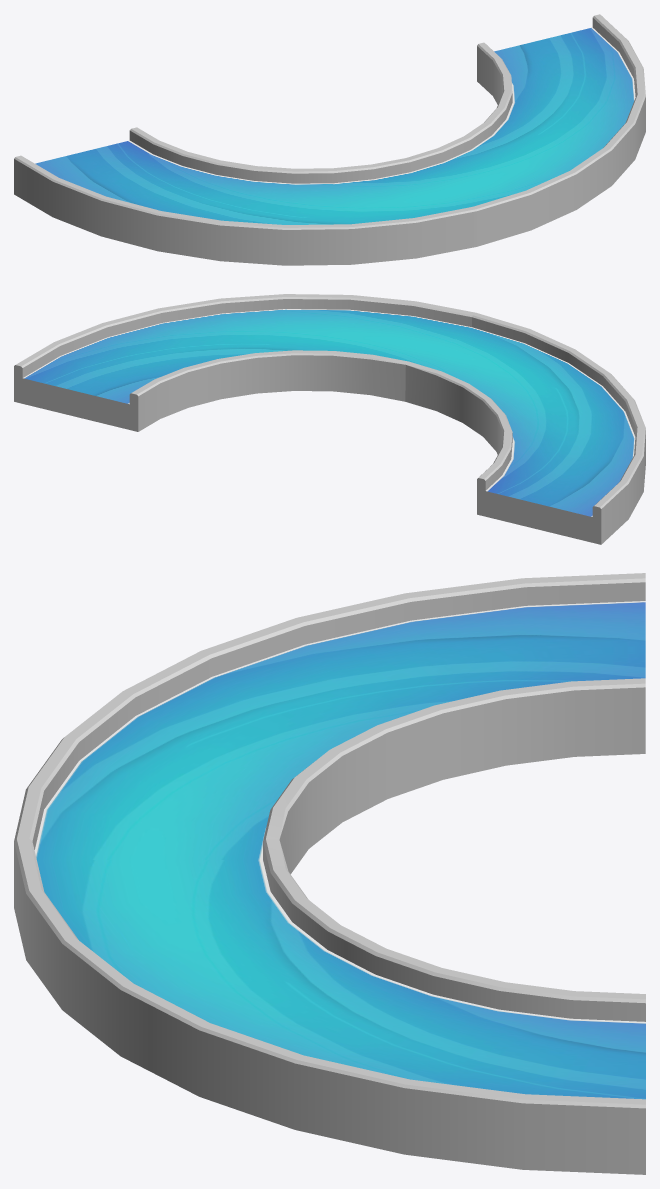
File: PLF0110190.fbx
3 views of the same model, one above another, from view 1: azimuth 30°, elevation 25°; view 2: azimuth 150°, elevation 25°; view 3: azimuth 270°, elevation 25° (orthographic). The views are drawn at different scales.
Parts seen in each view (by area): view 1: smPLF0110190; view 2: smPLF0110190; view 3: smPLF0110190.
Part boxes in pixels (box(x1,y1,x2,y2)): smPLF0110190: box(14, 14, 645, 265); smPLF0110190: box(14, 294, 645, 544); smPLF0110190: box(14, 573, 645, 1174).
Bounding box in the file's own units: 619 × 37.36 × 310.
Materials: 1 (1 with a texture image).
